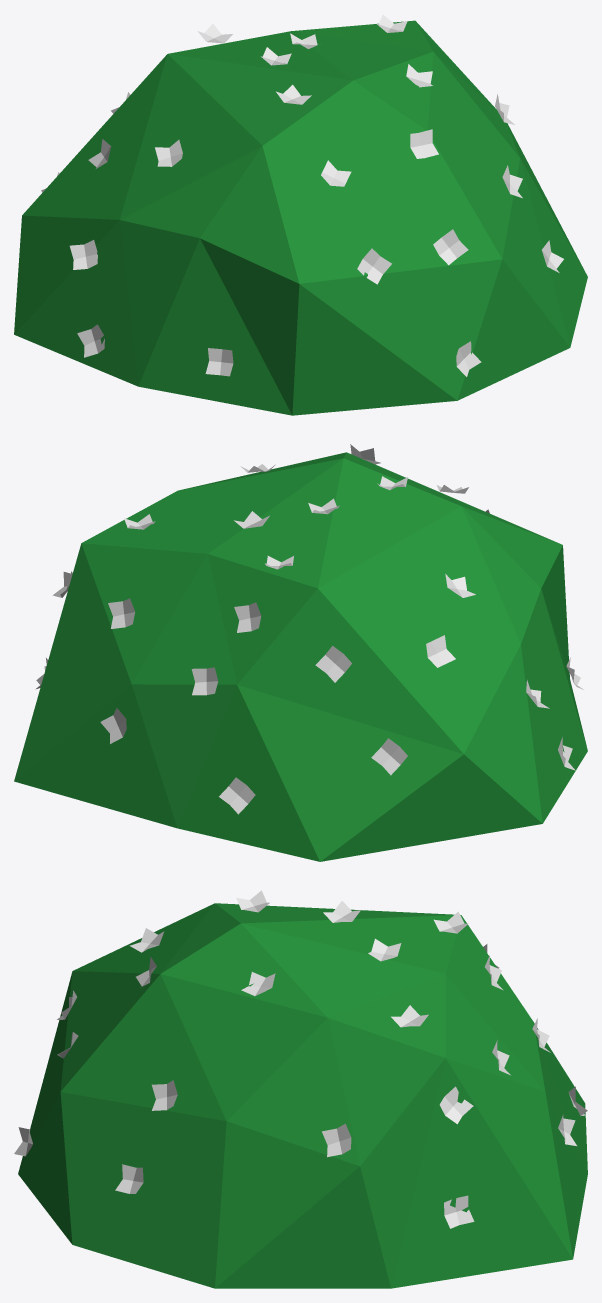
File: Blueberry.fbx
3 renders of one model, top to bottom at view 1: azimuth 30°, elevation 25°; view 2: azimuth 150°, elevation 25°; view 3: azimuth 270°, elevation 25°, orthographic. The views are drawn at different scales.
Visible parts, largest first — view 1: Icosphere; view 2: Icosphere; view 3: Icosphere.
Boxes of the visible parts, box(x1,y1,x2,y2) form: Icosphere: box(14, 14, 587, 415); Icosphere: box(14, 444, 587, 861); Icosphere: box(14, 890, 587, 1288).
Size of the model in its own units: 167 by 78.6 by 162.
